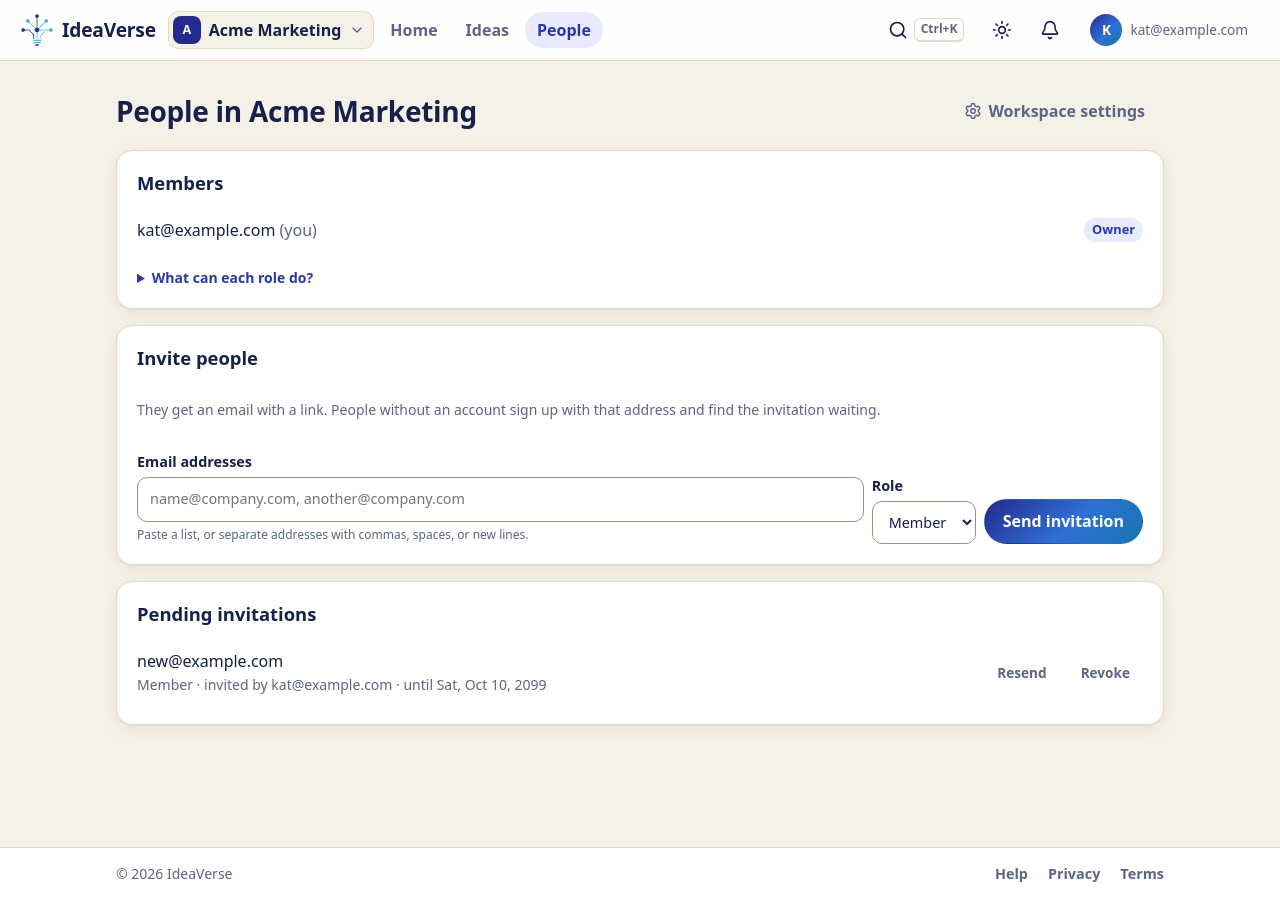
Test: PeoplePage › adds an address as a chip after a comma, and removes a chip
Type "leo@example.com,ada@exa" into the field labelled "Email addresses". click: (500, 499)
box: [144,484,857,515]
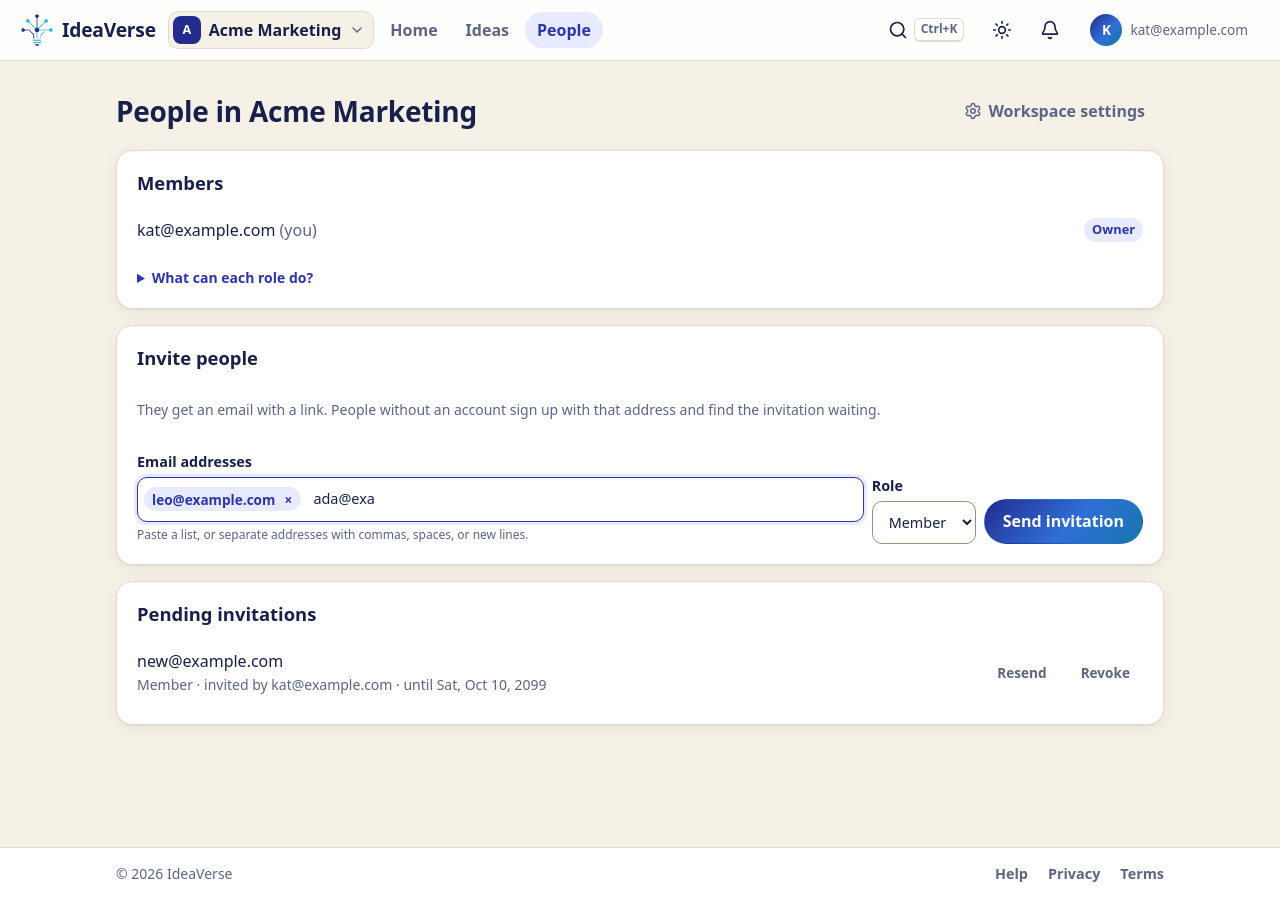
Result: the list named "Addresses to invite" shows "leo@example.com" at [152,490,275,509]
Result: the field labelled "Email addresses" holds "ada@exa" at [307,484,857,515]
Click the button named "Remove leo@example.com". click: click(288, 499)
box: [277,488,299,510]
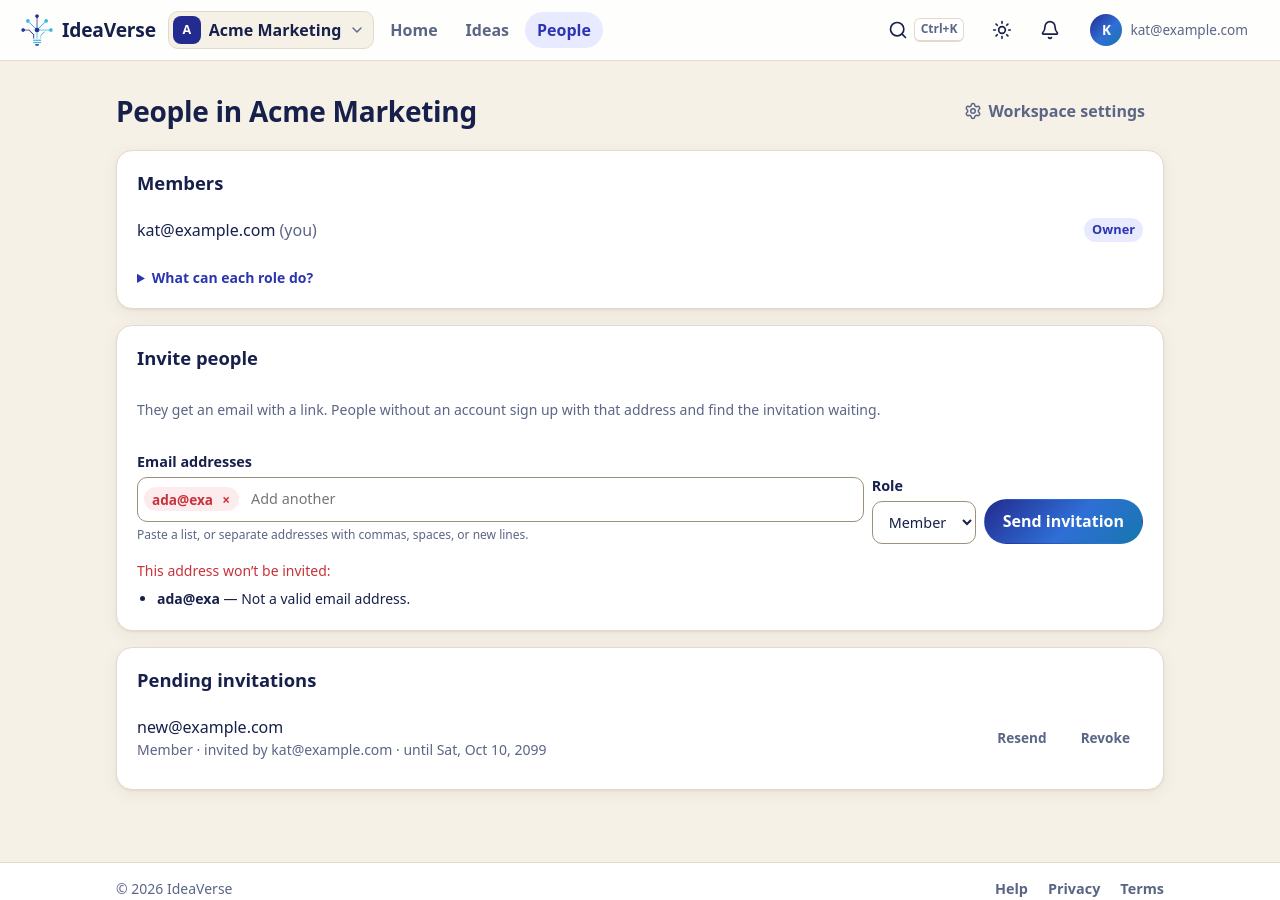
Result: the list named "Addresses to invite" no longer shows "leo@example.com" at [144,487,239,511]
Result: the list named "Addresses not invited" reads "ada@exa — Not a valid email address." at [157,589,410,608]
